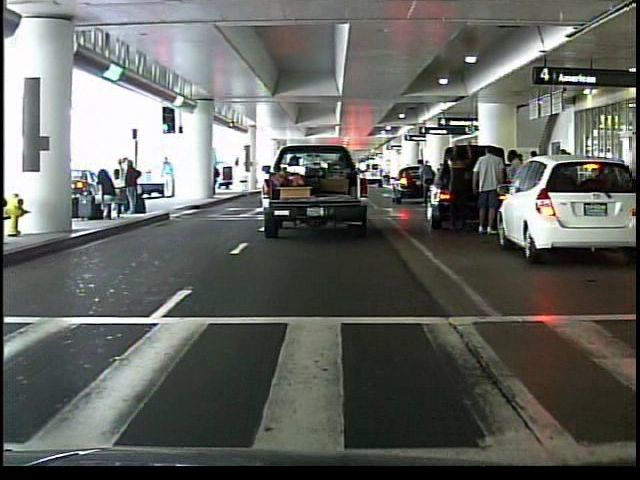person: (441, 140, 475, 235), (470, 144, 503, 239), (502, 146, 525, 235), (414, 155, 438, 209), (161, 156, 178, 199)
